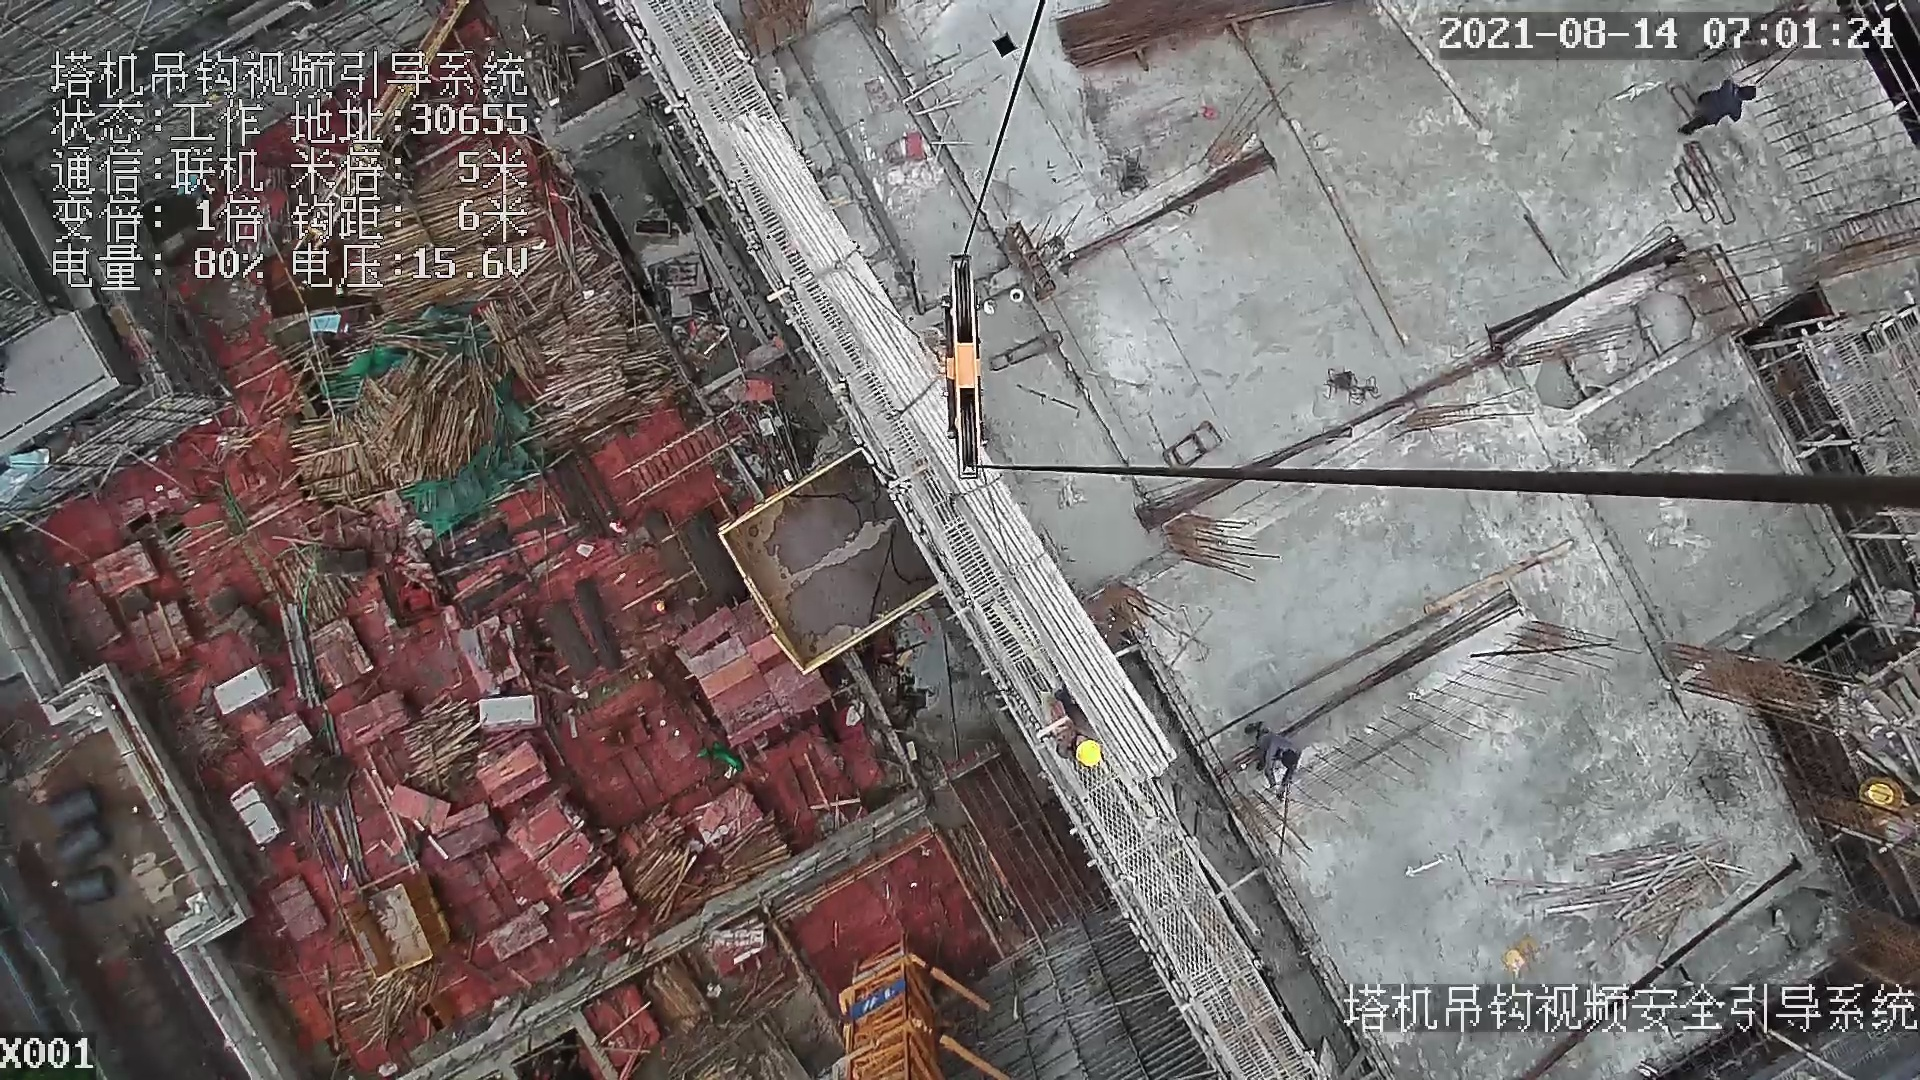helmet: (1075, 735, 1107, 772)
hook: (932, 246, 996, 489)
person: (1682, 73, 1762, 142), (1050, 685, 1112, 768), (1247, 717, 1304, 799)
